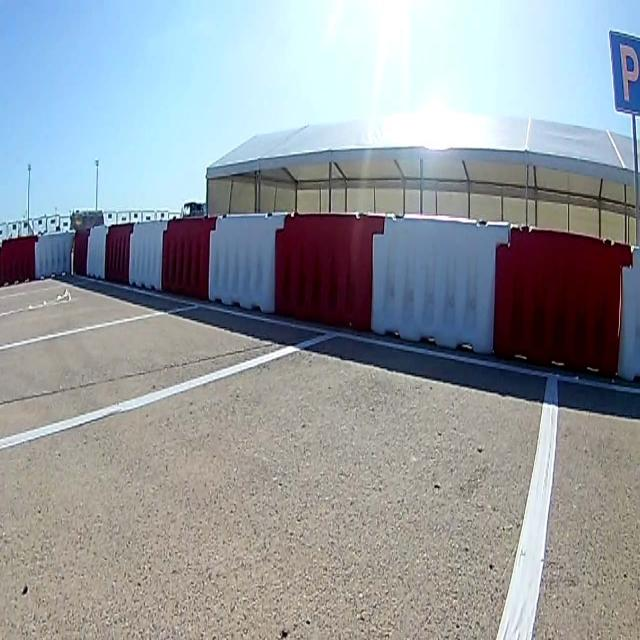park: (610, 30, 640, 110)
